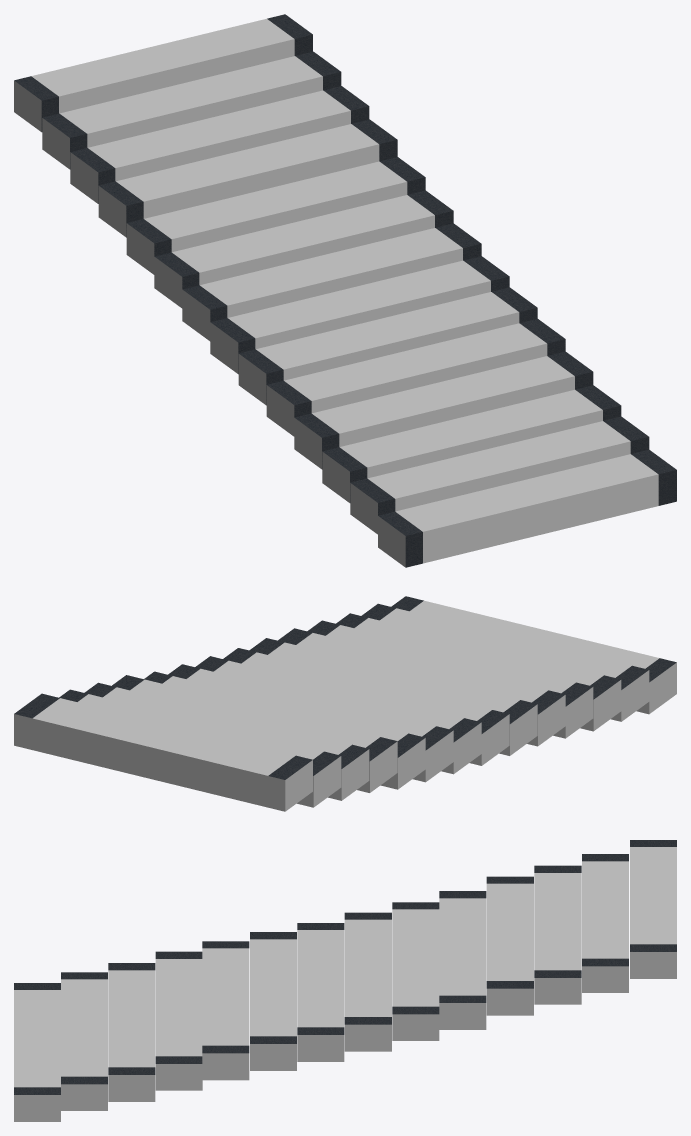
Rendered from Ladder.fbx.
The picture shows the model from 3 angles, top to bottom: view 1: azimuth 30°, elevation 25°; view 2: azimuth 150°, elevation 25°; view 3: azimuth 270°, elevation 25°; orthographic projection. The views are drawn at different scales.
Parts seen in each view (by area): view 1: Cube.001; view 2: Cube.001; view 3: Cube.001.
Part boxes in pixels (x1,y1,x2,y2): Cube.001: [14, 14, 676, 567]; Cube.001: [14, 596, 676, 811]; Cube.001: [14, 840, 676, 1121].
Bounding box in the file's own units: 152 × 108 × 380.
